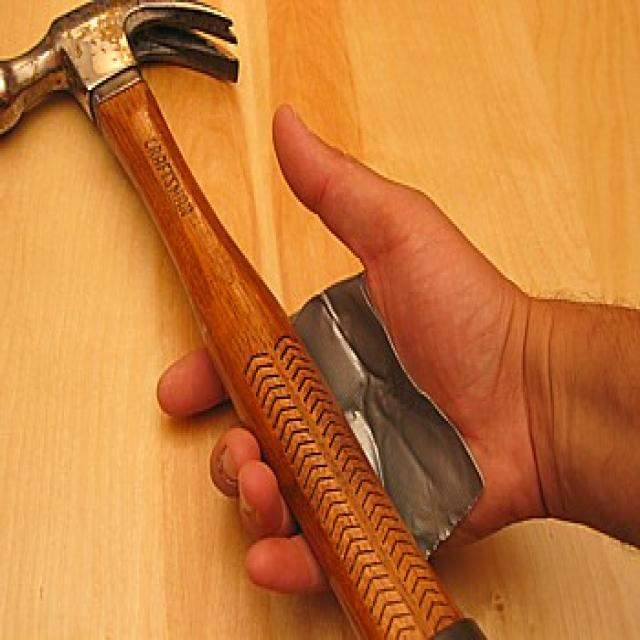hammer: (0, 0, 267, 324)
